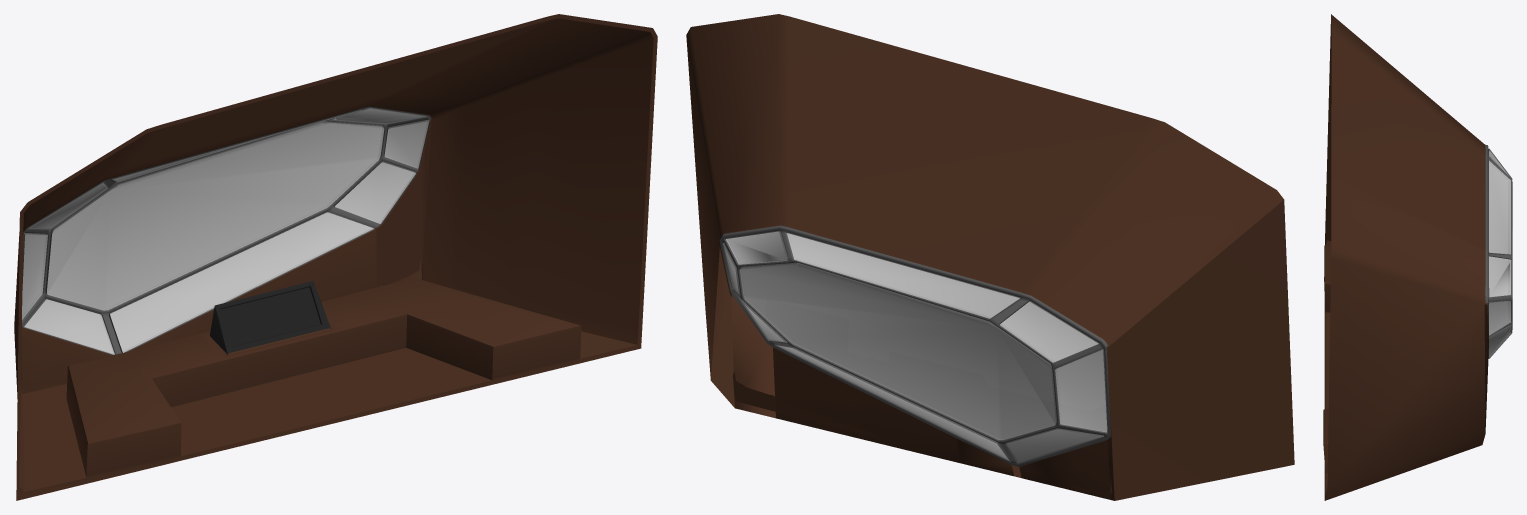
File: CP_reangled_flat.fbx
3 renders of one model, left to right at view 1: azimuth 30°, elevation 25°; view 2: azimuth 150°, elevation 25°; view 3: azimuth 270°, elevation 25°, orthographic. The views are drawn at different scales.
Parts seen in each view (by area): view 1: CP_Inside_hull; view 2: CP_Inside_hull; view 3: CP_Inside_hull.
Boxes of the visible parts, left/top/right/bottom form: CP_Inside_hull: left=14, top=14, right=657, bottom=500; CP_Inside_hull: left=686, top=14, right=1294, bottom=500; CP_Inside_hull: left=1323, top=14, right=1512, bottom=500.
Bounding box in the file's own units: 432 × 224 × 133.
